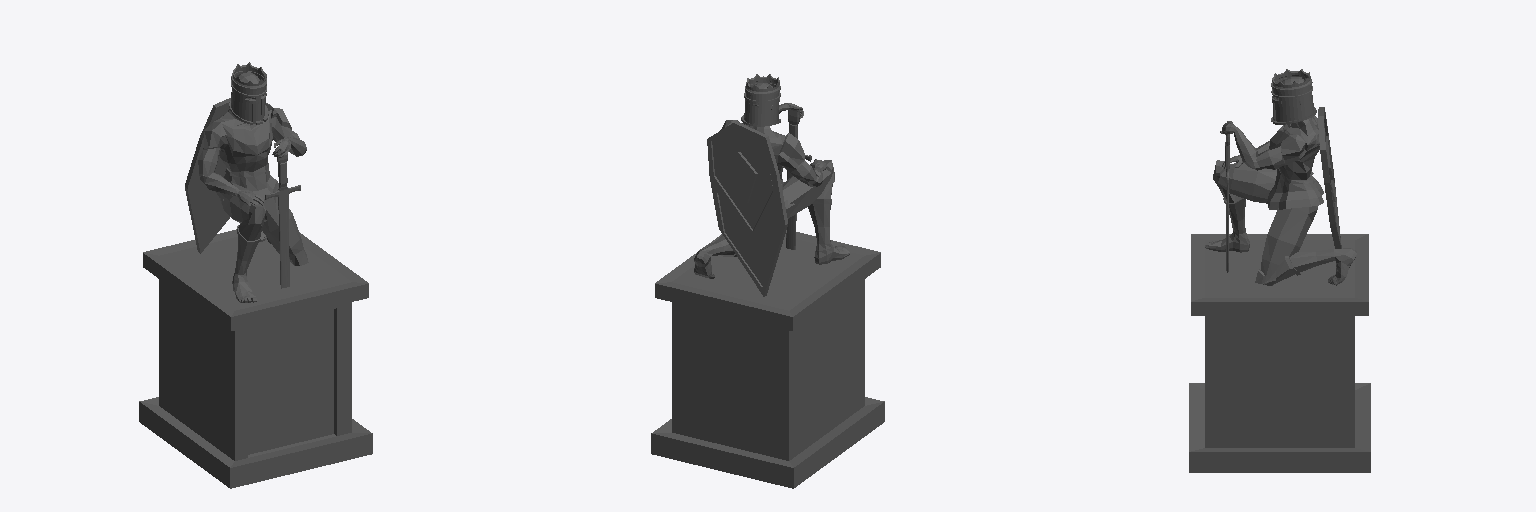
The model's file is knight_statue.obj.
The picture shows the model from 3 angles: view 1: azimuth 30°, elevation 25°; view 2: azimuth 150°, elevation 25°; view 3: azimuth 270°, elevation 25°; orthographic projection.
Parts seen in each view (by area): view 1: Cube, Human.001_body.000, shield.001_Plane.005, Circle.005_Circle.000, sword_Cube.002; view 2: Cube, shield.001_Plane.005, Human.001_body.000, Circle.005_Circle.000, sword_Cube.002; view 3: Cube, Human.001_body.000, Circle.005_Circle.000, shield.001_Plane.005.
Boxes of the visible parts, box(x1,y1,x2,y2) form: Cube: box(139, 229, 372, 488); Human.001_body.000: box(198, 72, 308, 302); shield.001_Plane.005: box(185, 98, 272, 253); Circle.005_Circle.000: box(229, 62, 268, 124); sword_Cube.002: box(265, 150, 300, 288); Cube: box(651, 230, 884, 488); shield.001_Plane.005: box(707, 121, 787, 296); Human.001_body.000: box(694, 83, 849, 278); Circle.005_Circle.000: box(741, 74, 780, 126); sword_Cube.002: box(786, 110, 811, 249); Cube: box(1189, 234, 1370, 472); Human.001_body.000: box(1205, 77, 1356, 285); Circle.005_Circle.000: box(1271, 69, 1316, 124); shield.001_Plane.005: box(1318, 107, 1341, 248).
Size of the model in its own units: 0.936 by 2.29 by 1.04.